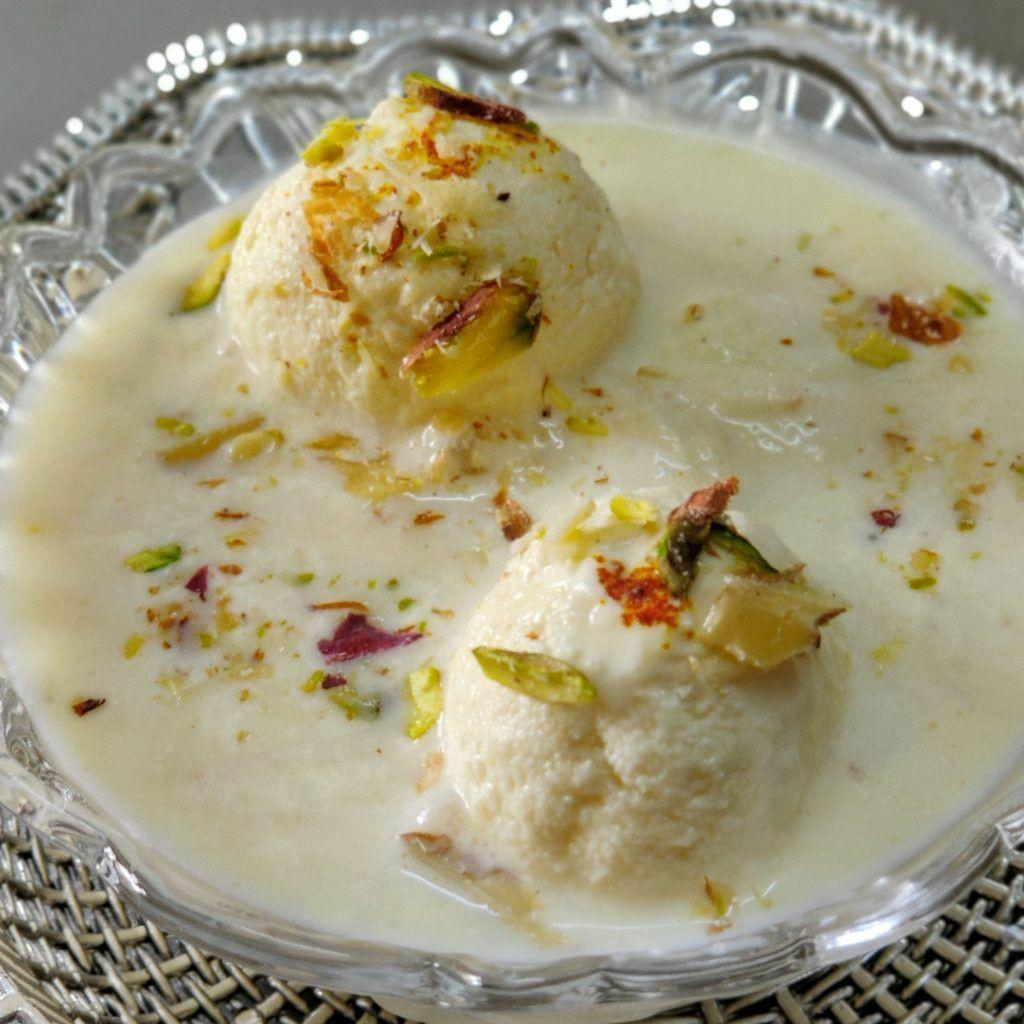RasMalai: (7, 78, 1024, 973)
